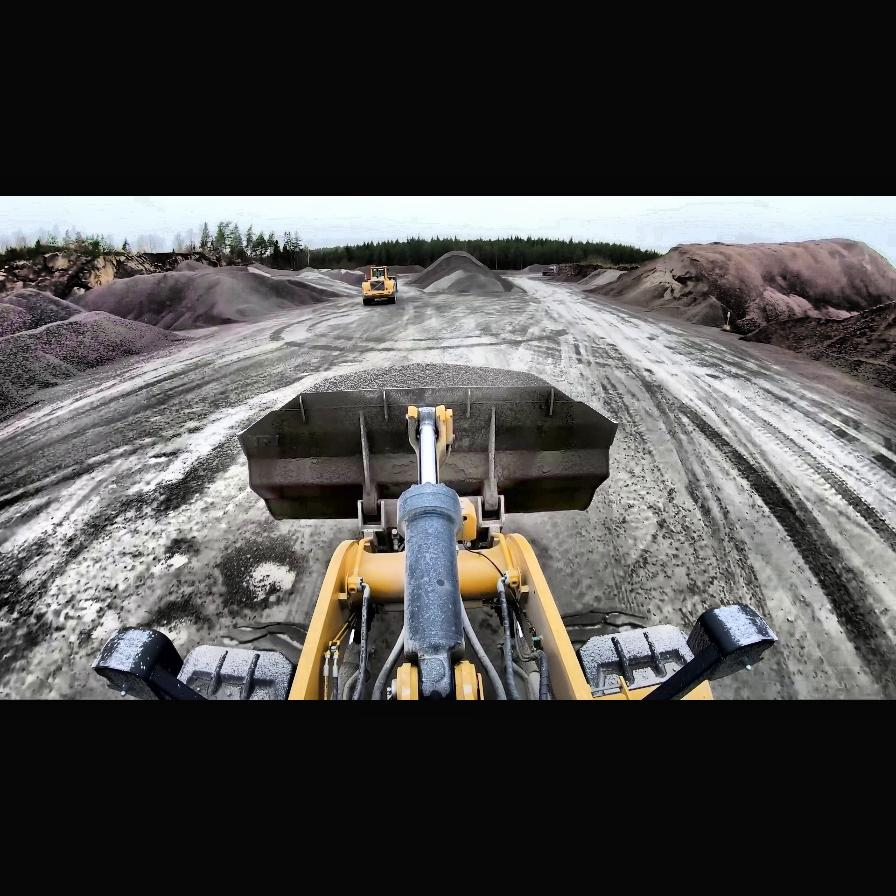anchor: (406, 404, 454, 480)
pile of gravel: (602, 235, 896, 342), (0, 286, 194, 435), (72, 263, 348, 333), (736, 294, 896, 406), (592, 250, 718, 324), (0, 289, 84, 343), (410, 250, 514, 293), (316, 268, 370, 288), (574, 268, 625, 288)
